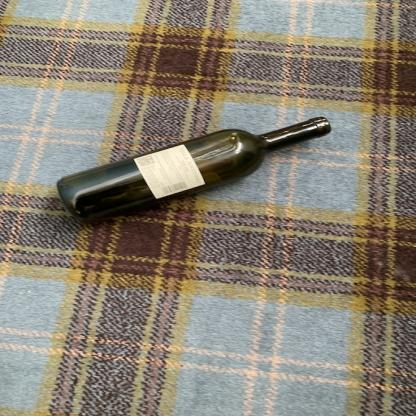trash: (53, 118, 335, 224)
